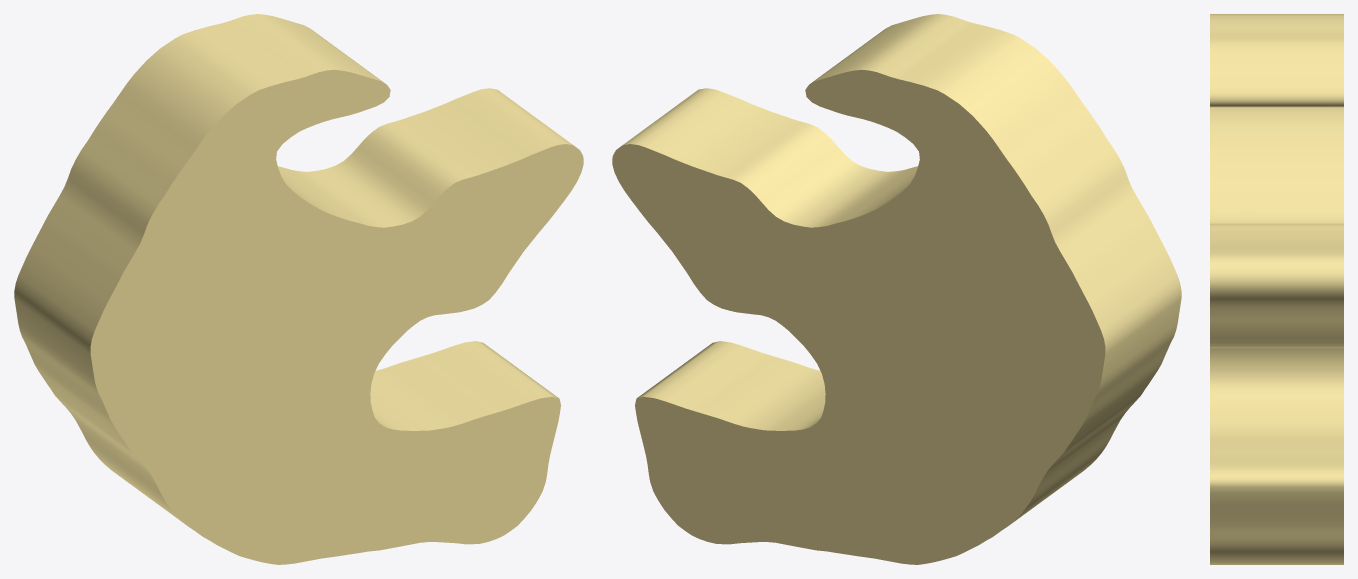
Rendered from arrow.fbx.
The picture shows the model from 3 angles, left to right: view 1: azimuth 30°, elevation 25°; view 2: azimuth 150°, elevation 25°; view 3: azimuth 270°, elevation 25°; orthographic projection. The views are drawn at different scales.
Visible parts, largest first — view 1: root; view 2: root; view 3: root.
Part boxes in pixels (x1,y1,x2,y2): root: (14,14,583,564); root: (612,14,1181,564); root: (1210,14,1343,564).
Size of the model in its own units: 0.3737 by 0.37 by 0.1.
